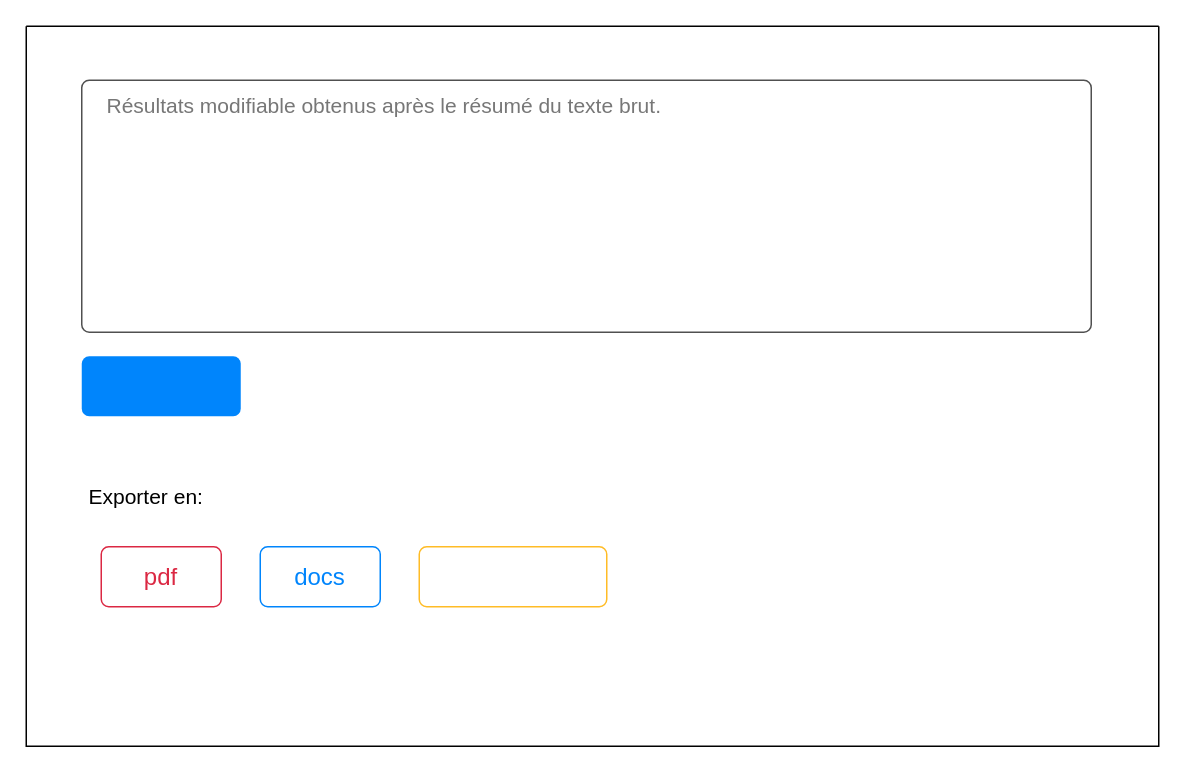
The diagram is 1185 pixels wide and 773 high, and some of its shapes have lost their labels. Here are the shapes that lost their labels. From the top down, the centre of each, then its label:
the point at 160,386: Save
the point at 512,576: Share via mail
